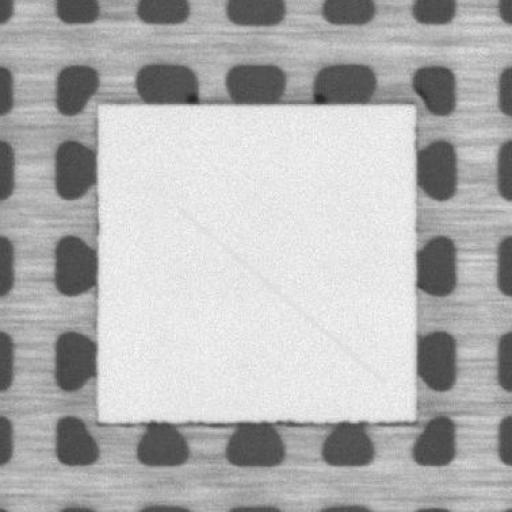DIE_CRACK: (178, 209, 382, 382)
